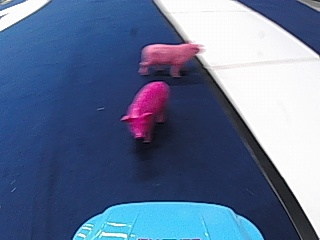pig: (119, 78, 168, 144), (139, 38, 198, 77)
